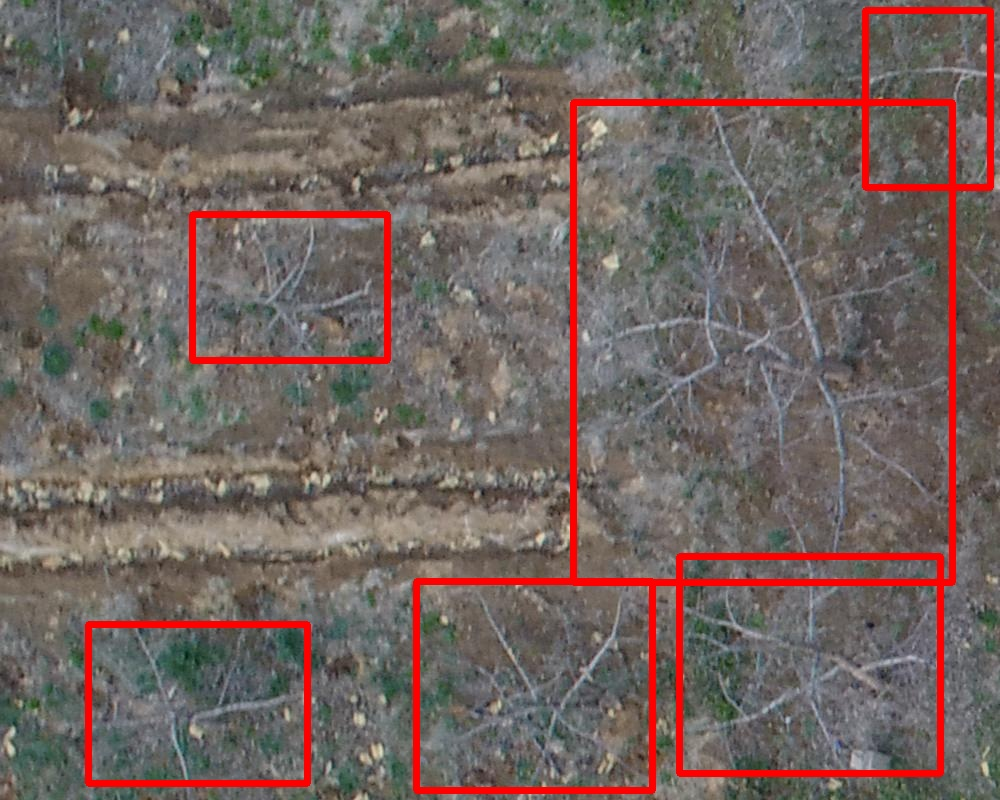apple: (573, 102, 952, 582), (679, 556, 940, 773), (416, 581, 652, 790), (88, 624, 307, 783), (192, 214, 387, 360), (865, 10, 990, 187)
